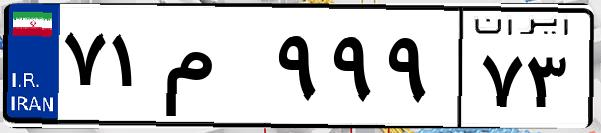1: (110, 28, 158, 98)
3: (525, 38, 570, 115)
7: (57, 26, 110, 100), (475, 38, 525, 113)
9: (270, 28, 330, 110), (385, 28, 445, 110), (330, 28, 385, 110)
م: (158, 20, 270, 120)
